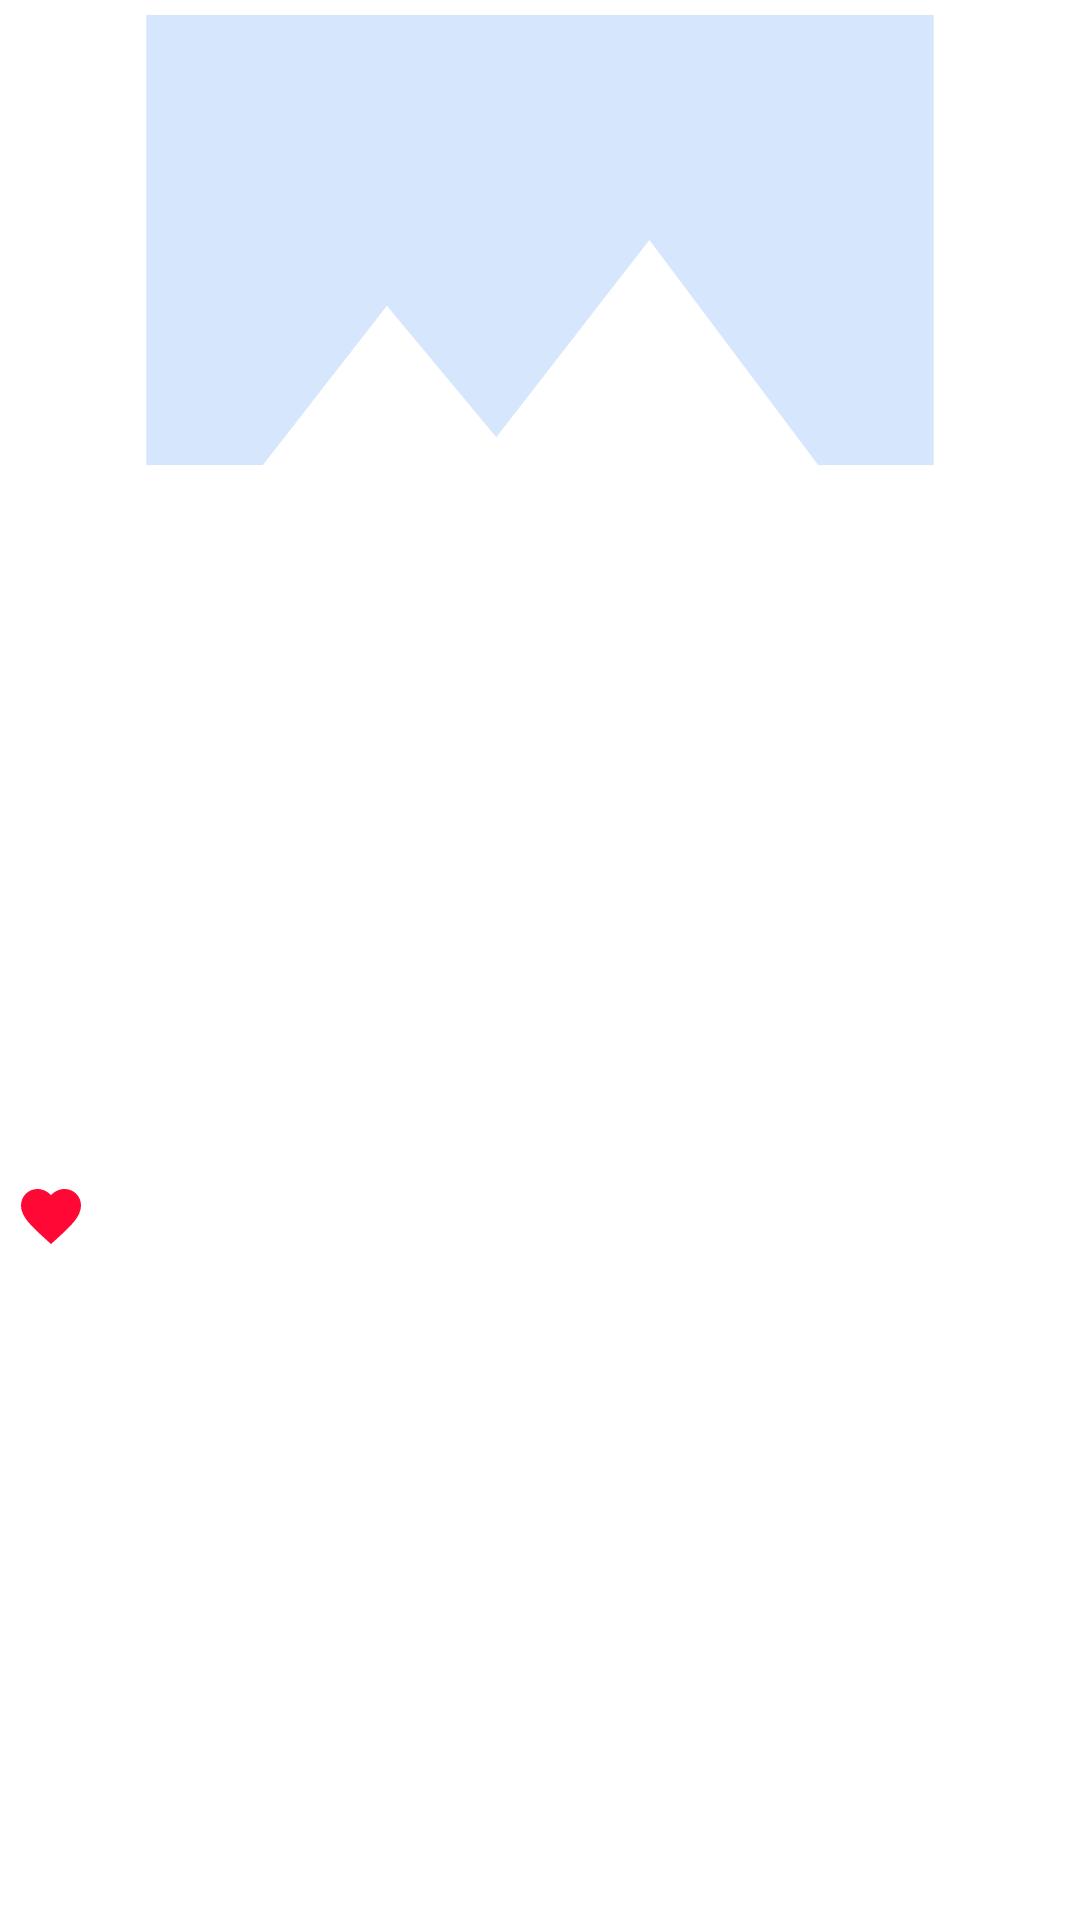

Icon bounding boxes for this 1080w x 1920h phone screenshot, format (x1, y1, x2, y2):
favorite: (21, 1189, 81, 1244)
